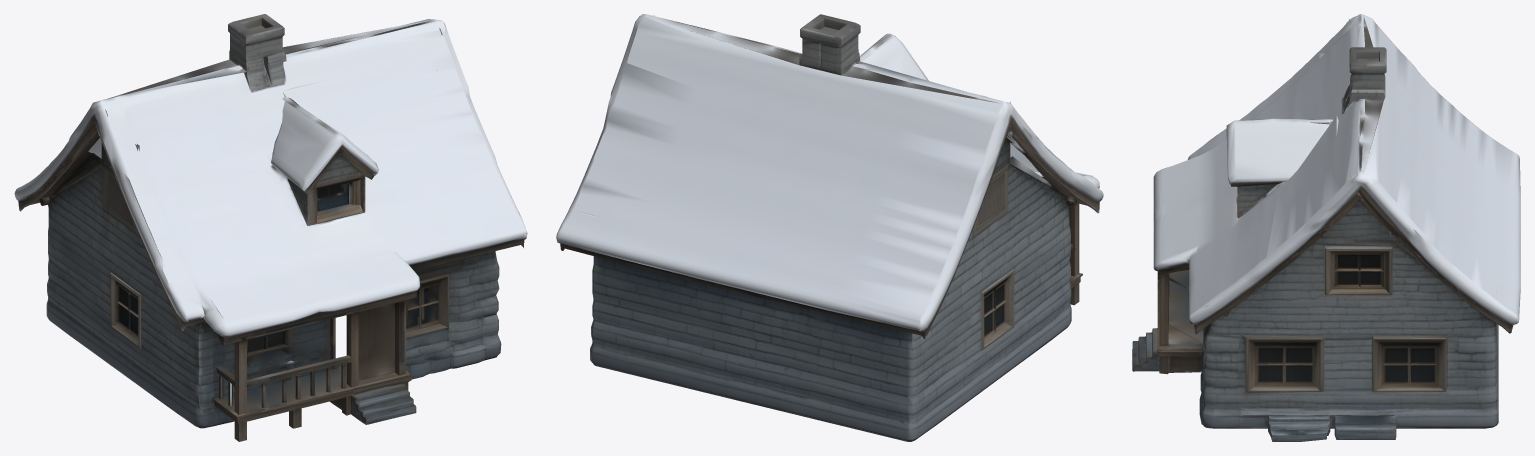
File: casa nieve_opt.glb
3 renders of one model, left to right at view 1: azimuth 30°, elevation 25°; view 2: azimuth 150°, elevation 25°; view 3: azimuth 270°, elevation 25°, orthographic. The views are drawn at different scales.
Parts seen in each view (by area): view 1: material_Material.002_0; view 2: material_Material.002_0; view 3: material_Material.002_0.
Part boxes in pixels (x1,y1,x2,y2): material_Material.002_0: [14, 14, 527, 441]; material_Material.002_0: [556, 14, 1103, 441]; material_Material.002_0: [1132, 14, 1520, 441].
Size of the model in its own units: 7.54 by 6.33 by 7.46.
Materials: 1 (1 with a texture image).
